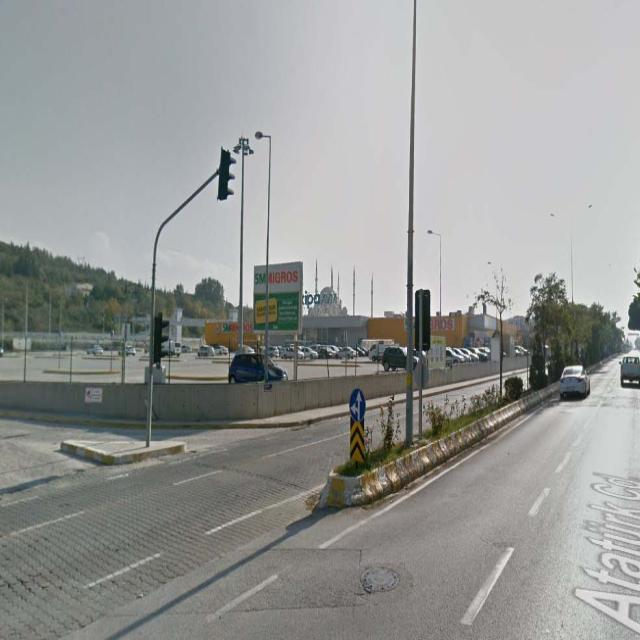ilerisol: (348, 388, 366, 423)
